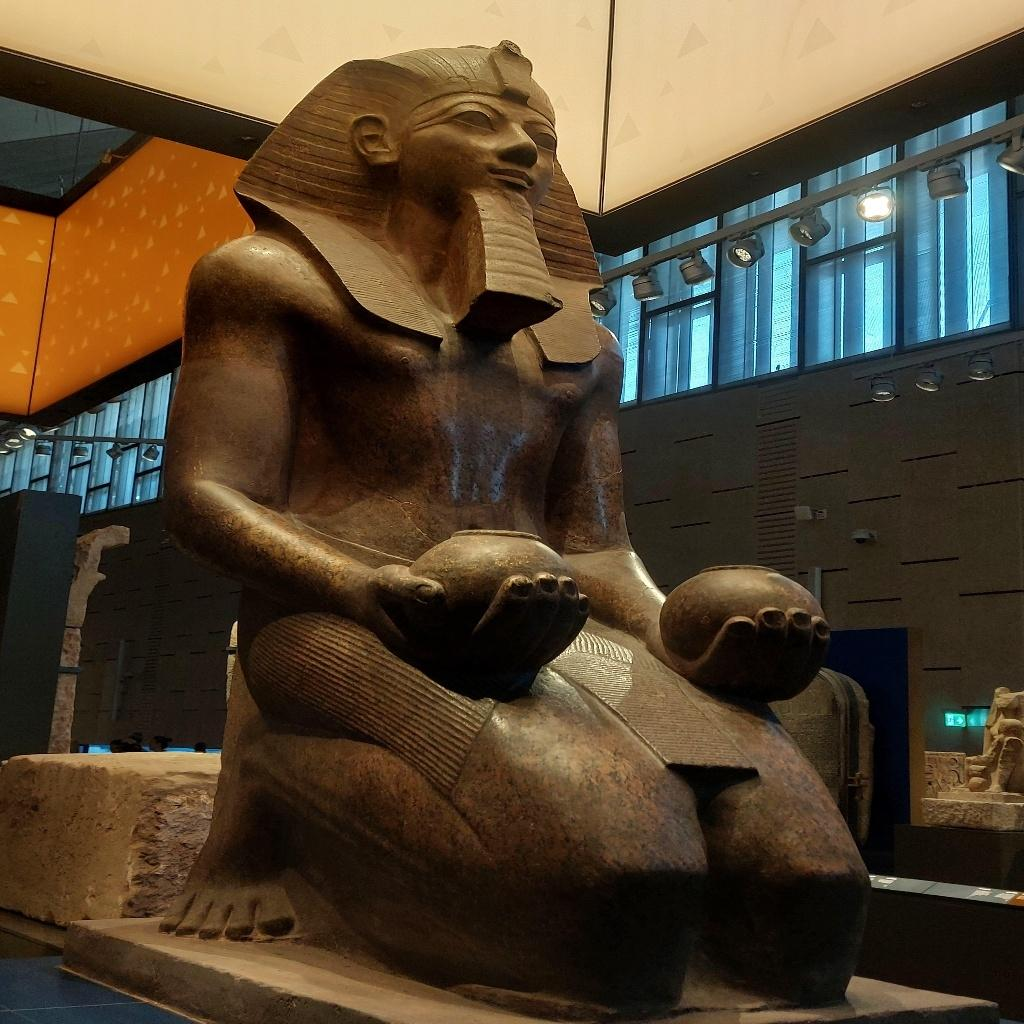kneeling statue of queen hatshibsut: (150, 38, 878, 1014)
